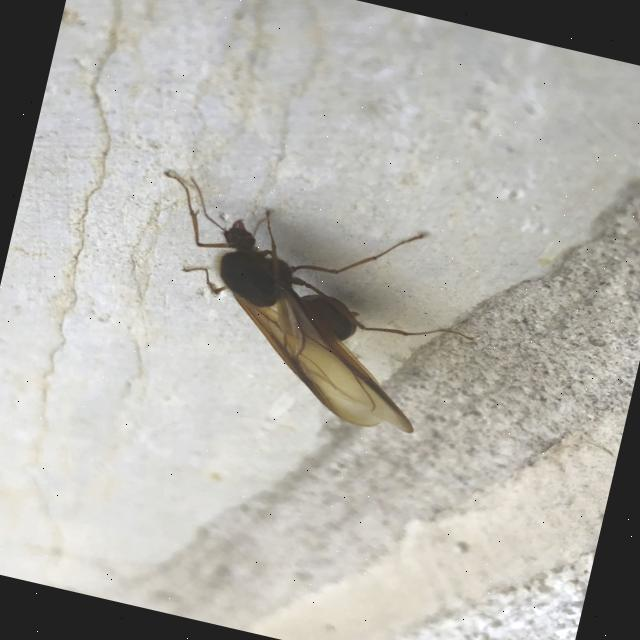Alive-Male-Alate: (118, 168, 496, 446)
